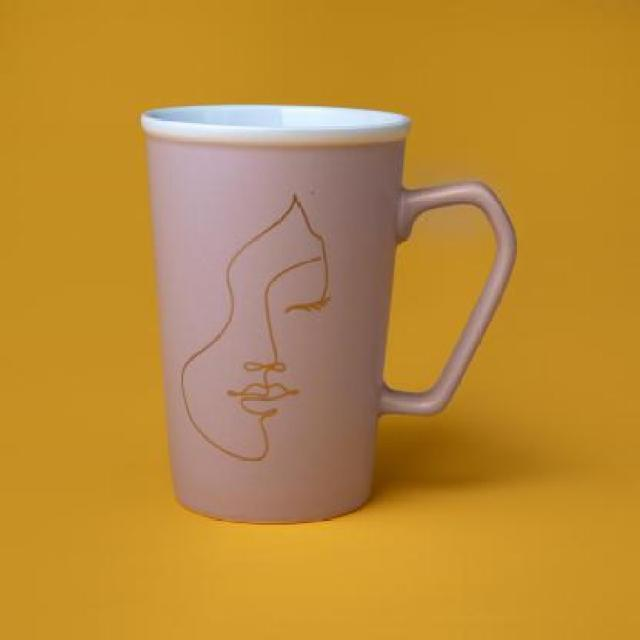taza: (136, 100, 516, 526)
